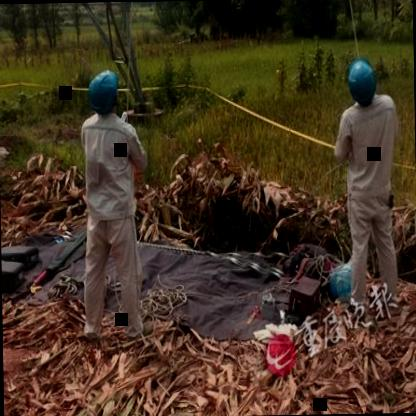helmet: (86, 66, 124, 119), (345, 56, 377, 108)
